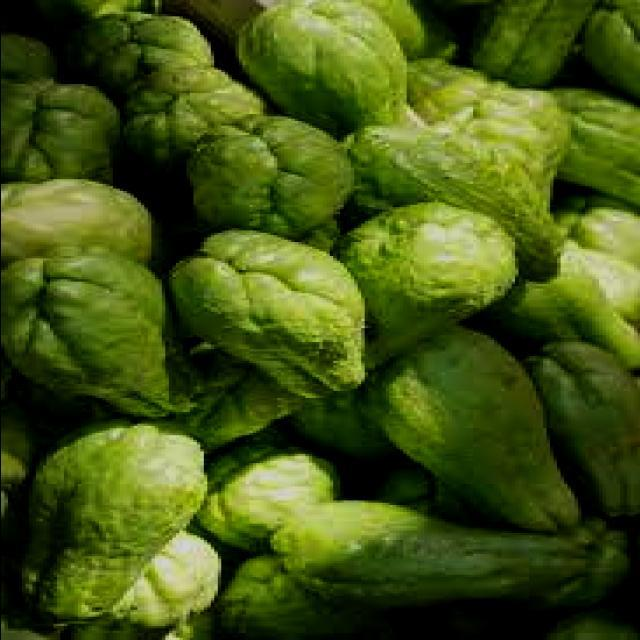Chayote: (274, 478, 588, 626), (21, 419, 224, 640), (312, 208, 540, 386), (176, 221, 390, 403), (0, 238, 207, 414), (188, 79, 366, 255)
